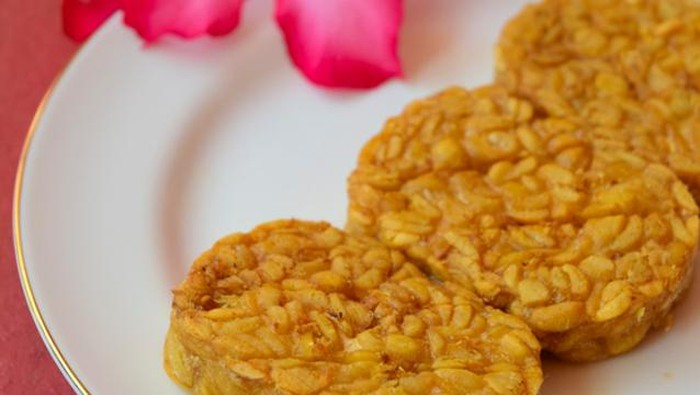Tempe: (306, 85, 667, 337), (210, 230, 541, 395), (477, 14, 700, 162)
